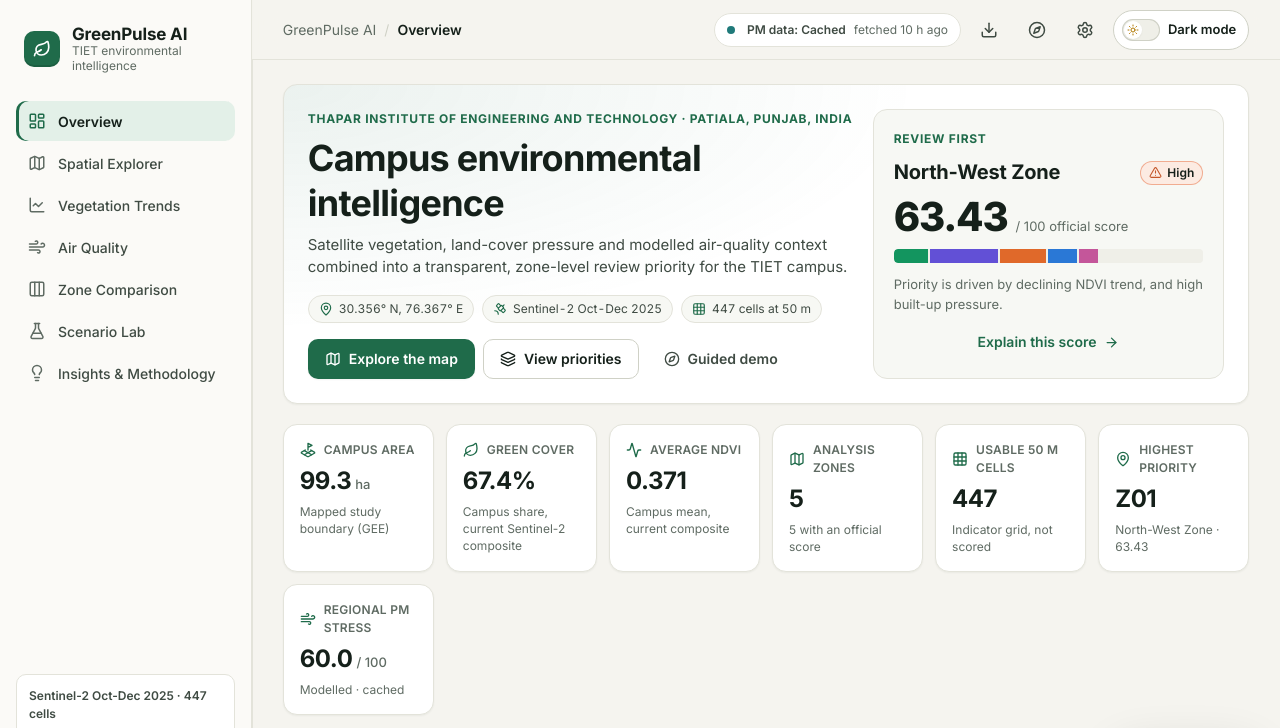
Test case: App › opens and closes settings with keyboard support
Expected: the text "99.3" is shown, [300,466,351,495]
Click the button named "Open settings" at point(1085, 30), box [1065,10,1105,50]
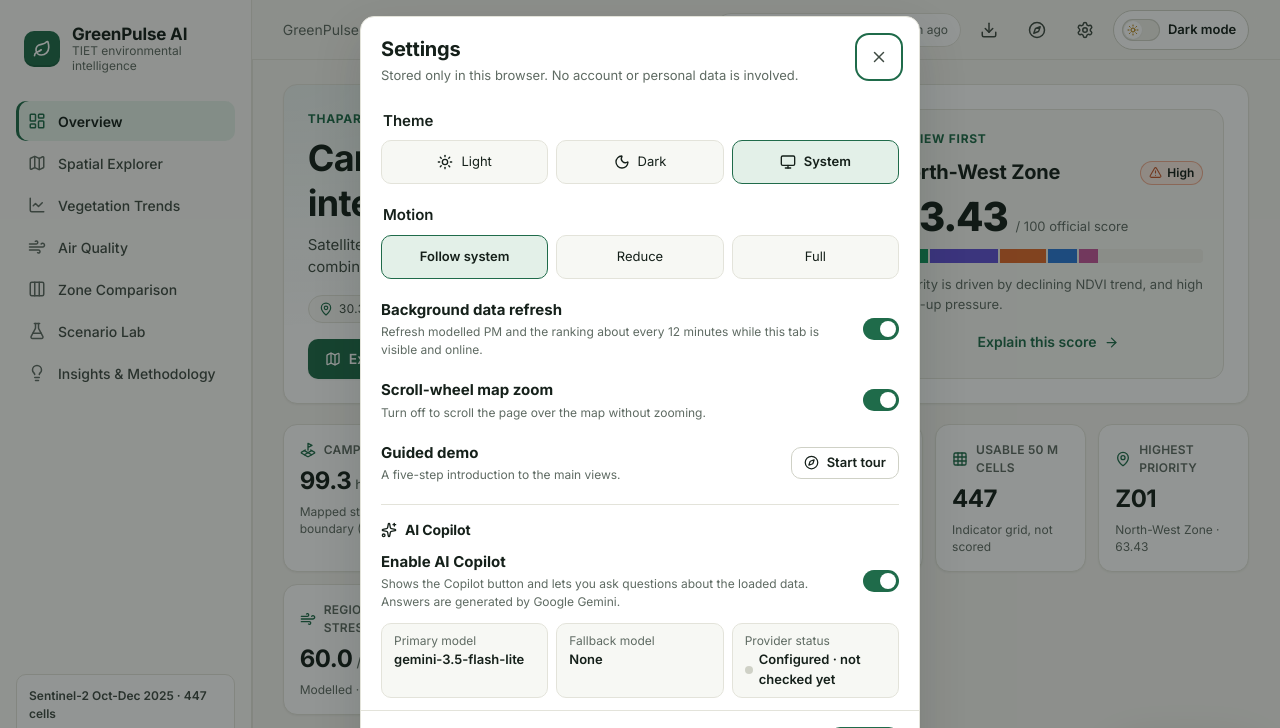
Click the radio button labelled "Dark" at point(640, 162), box [556,140,724,184]
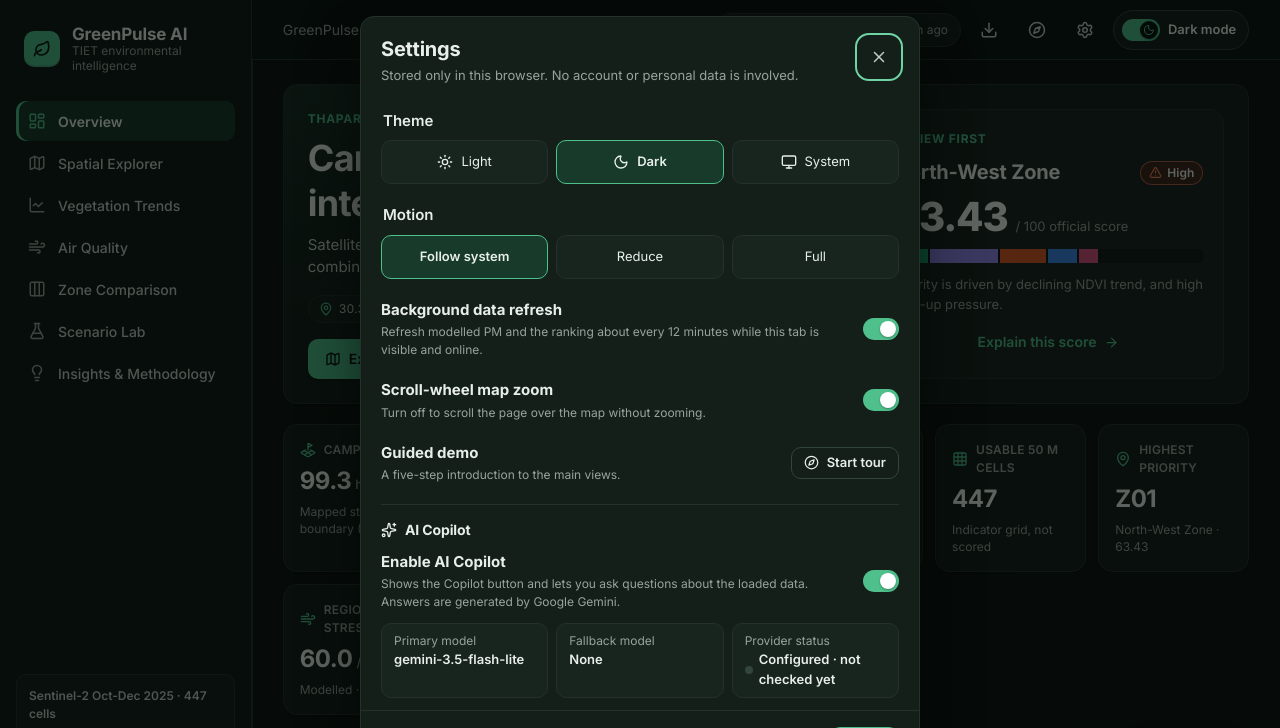
Press Escape
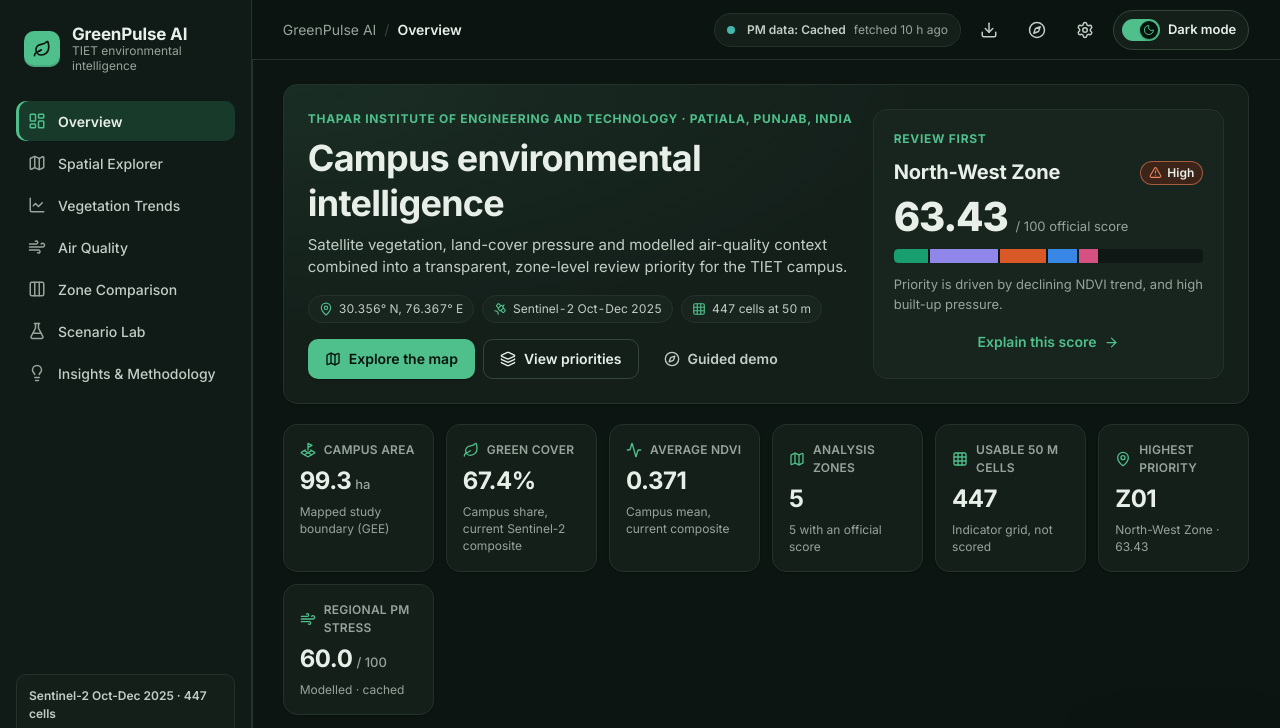
Result: the heading "Settings" is gone
